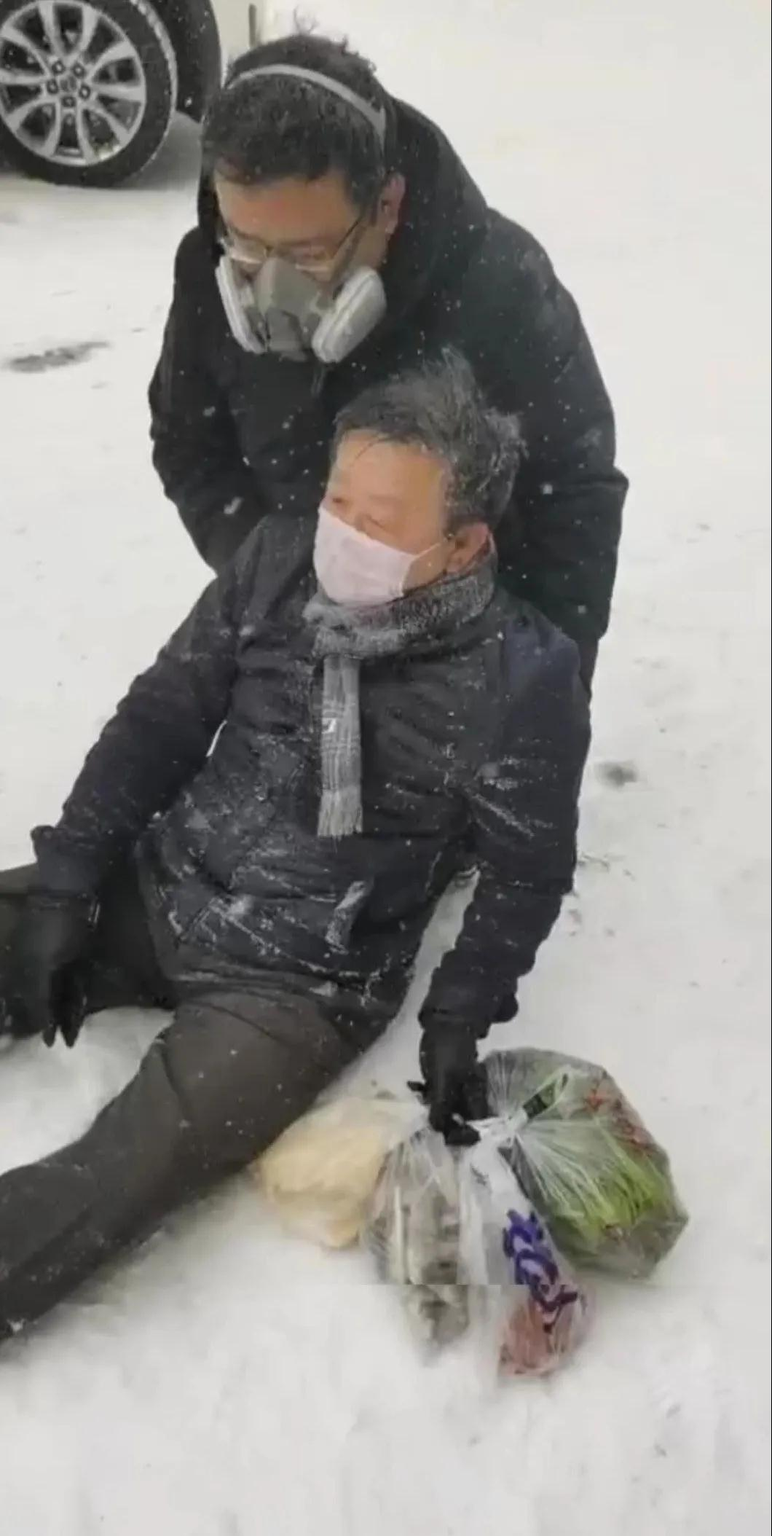down: (18, 362, 589, 1439)
